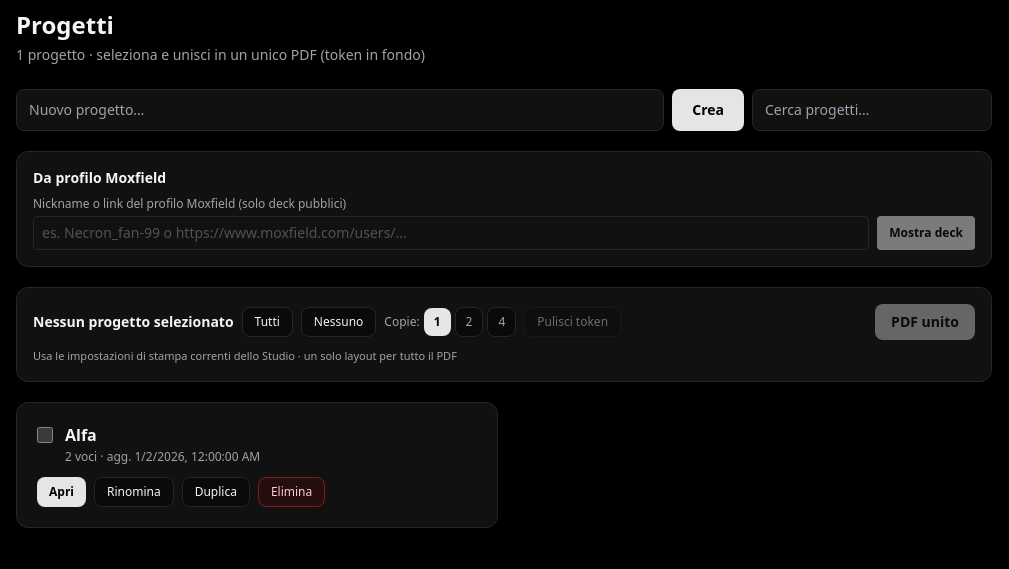
Test: ProjectsView export in blocco › Pulisci token: toglie le voci non-token dai progetti selezionati
Expected: the text "Alfa" is shown, 65,422 -> 97,446
Click the checkbox named "Seleziona Alfa": point(45, 434) 37,426 -> 53,442
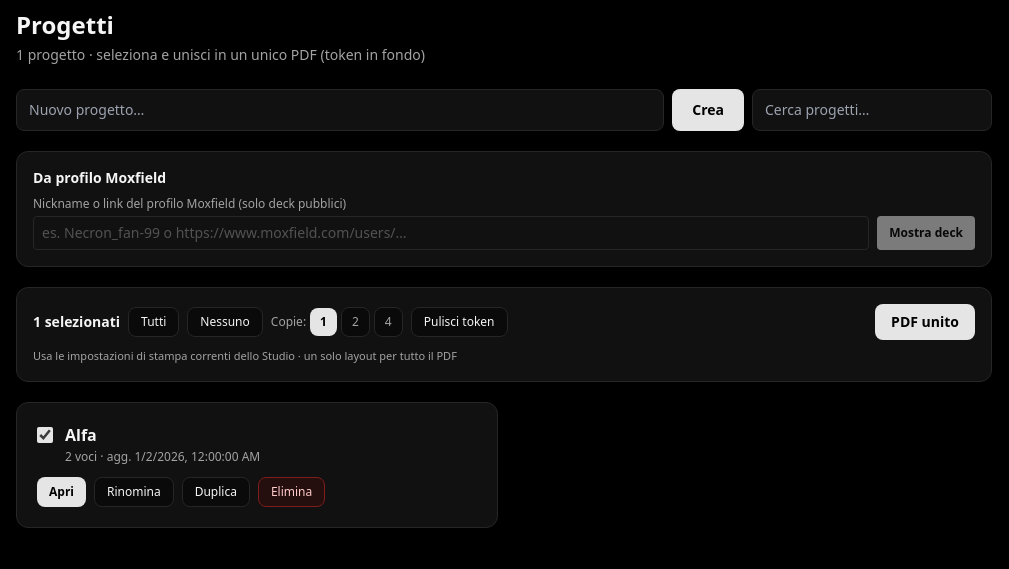
Click the button with test id "batch-clean-tokens": point(459, 322) 411,307 -> 508,337
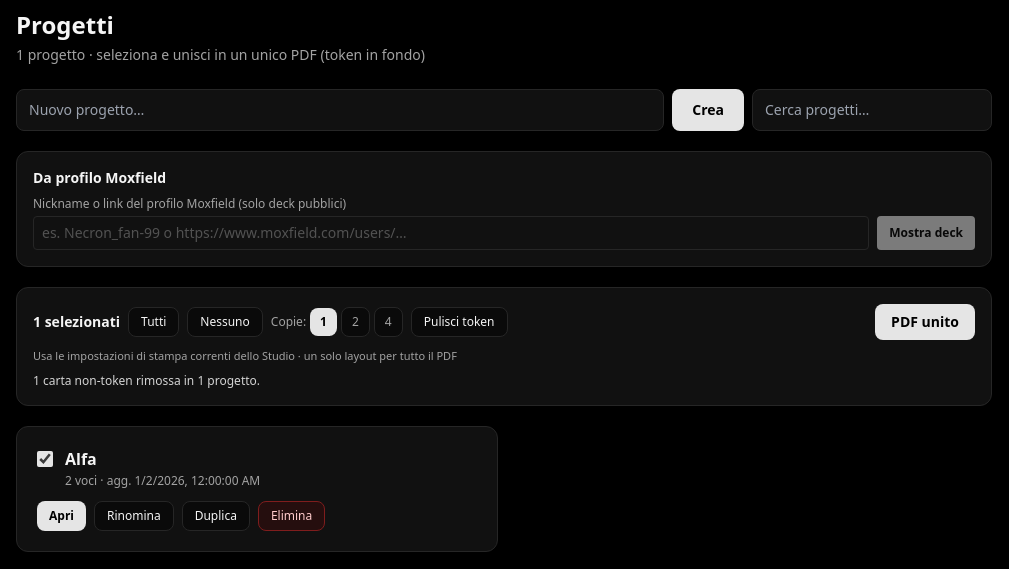
Now the text with test id "batch-status" reads "1 carta non-token rimossa in 1 progetto.", box 33,372 -> 260,388
